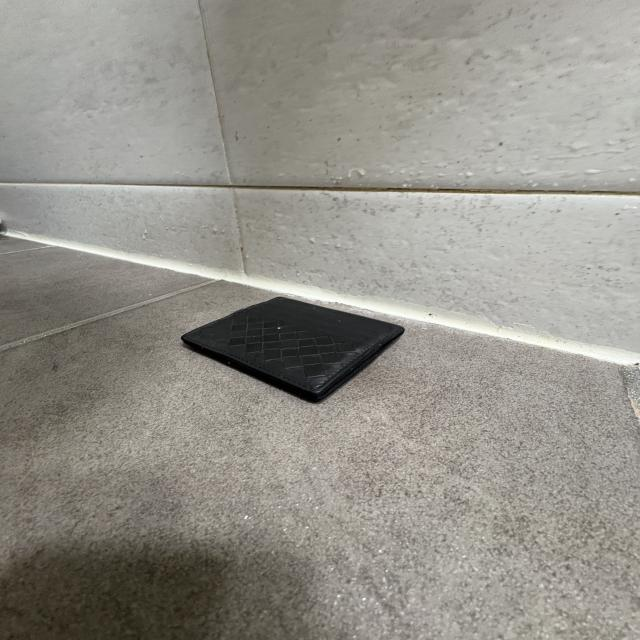wallet: (182, 295, 405, 403)
